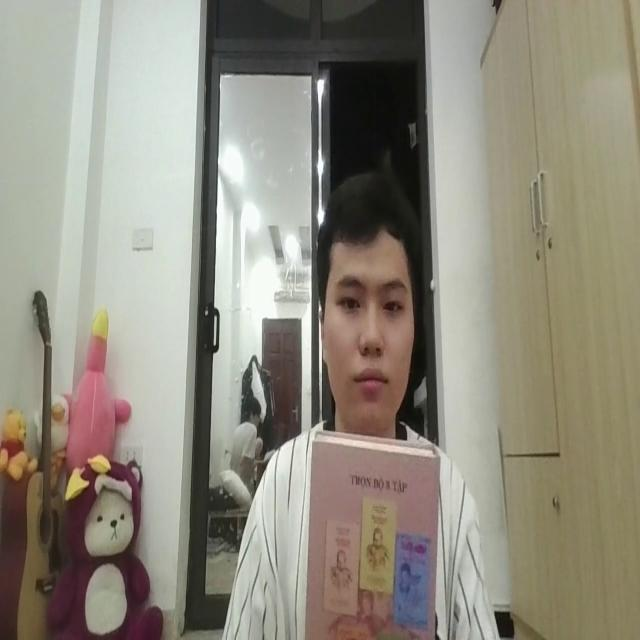book: (305, 422, 443, 640)
student: (218, 157, 498, 640)
